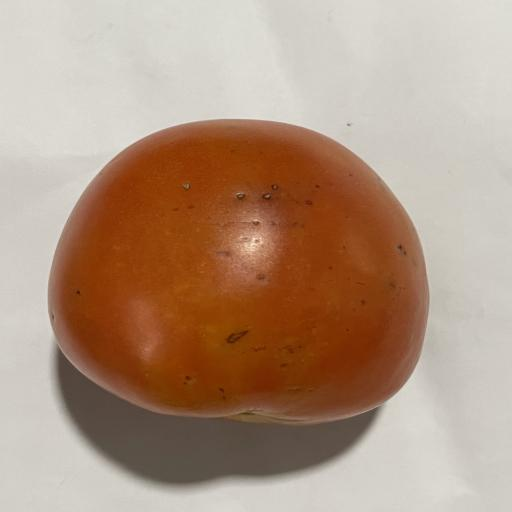ripe: (49, 119, 428, 425)
